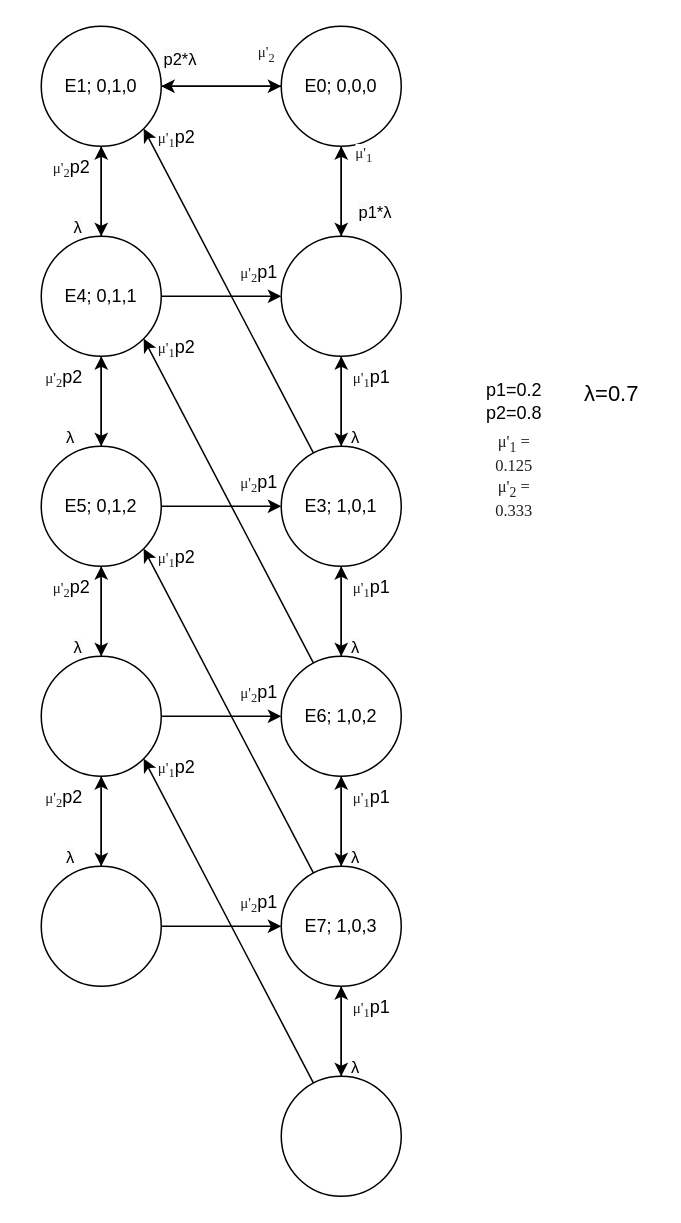
This 681x1223 diagram has some shape labels left out. The box of each missing label's shape, as (x1, y1, x2, y2) in pixels:
E10; 0,1,4: (40, 865, 161, 986)
E2; 1,0,0: (280, 235, 401, 356)
E8; 0,1,3: (40, 655, 161, 776)
E9; 1,0,4: (280, 1075, 401, 1196)
